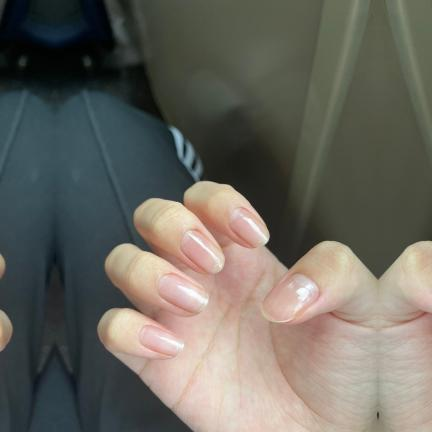Nail: (260, 273, 319, 323), (157, 273, 209, 314), (180, 229, 225, 274), (228, 208, 270, 247), (138, 325, 184, 356)
